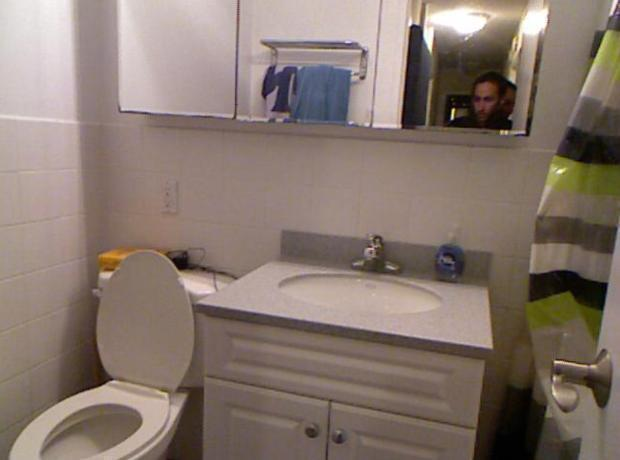Lavamanos: (266, 220, 447, 328)
Sanitario: (6, 261, 217, 458)
